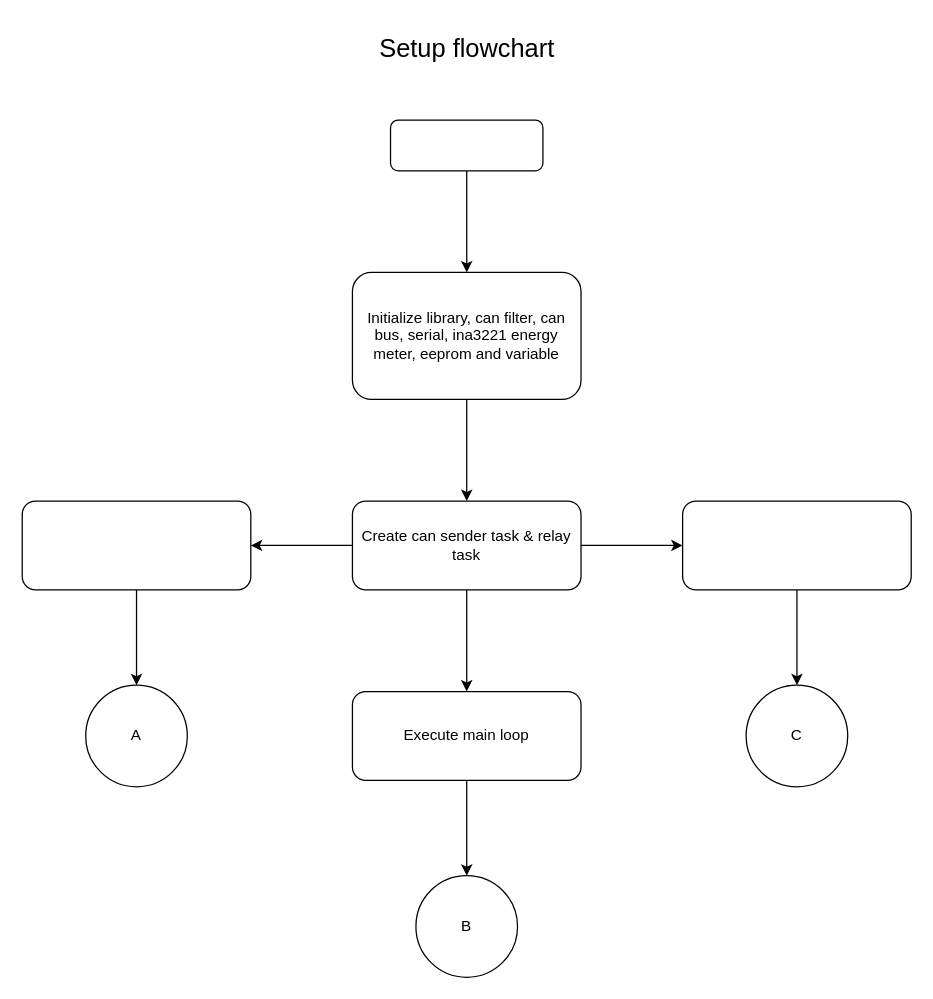
This 933x999 diagram has some shape labels left out. Each missing label, with the centre of its shape:
Setup: point (466, 145)
Start can sender task: point (136, 545)
Start relay task: point (796, 545)
